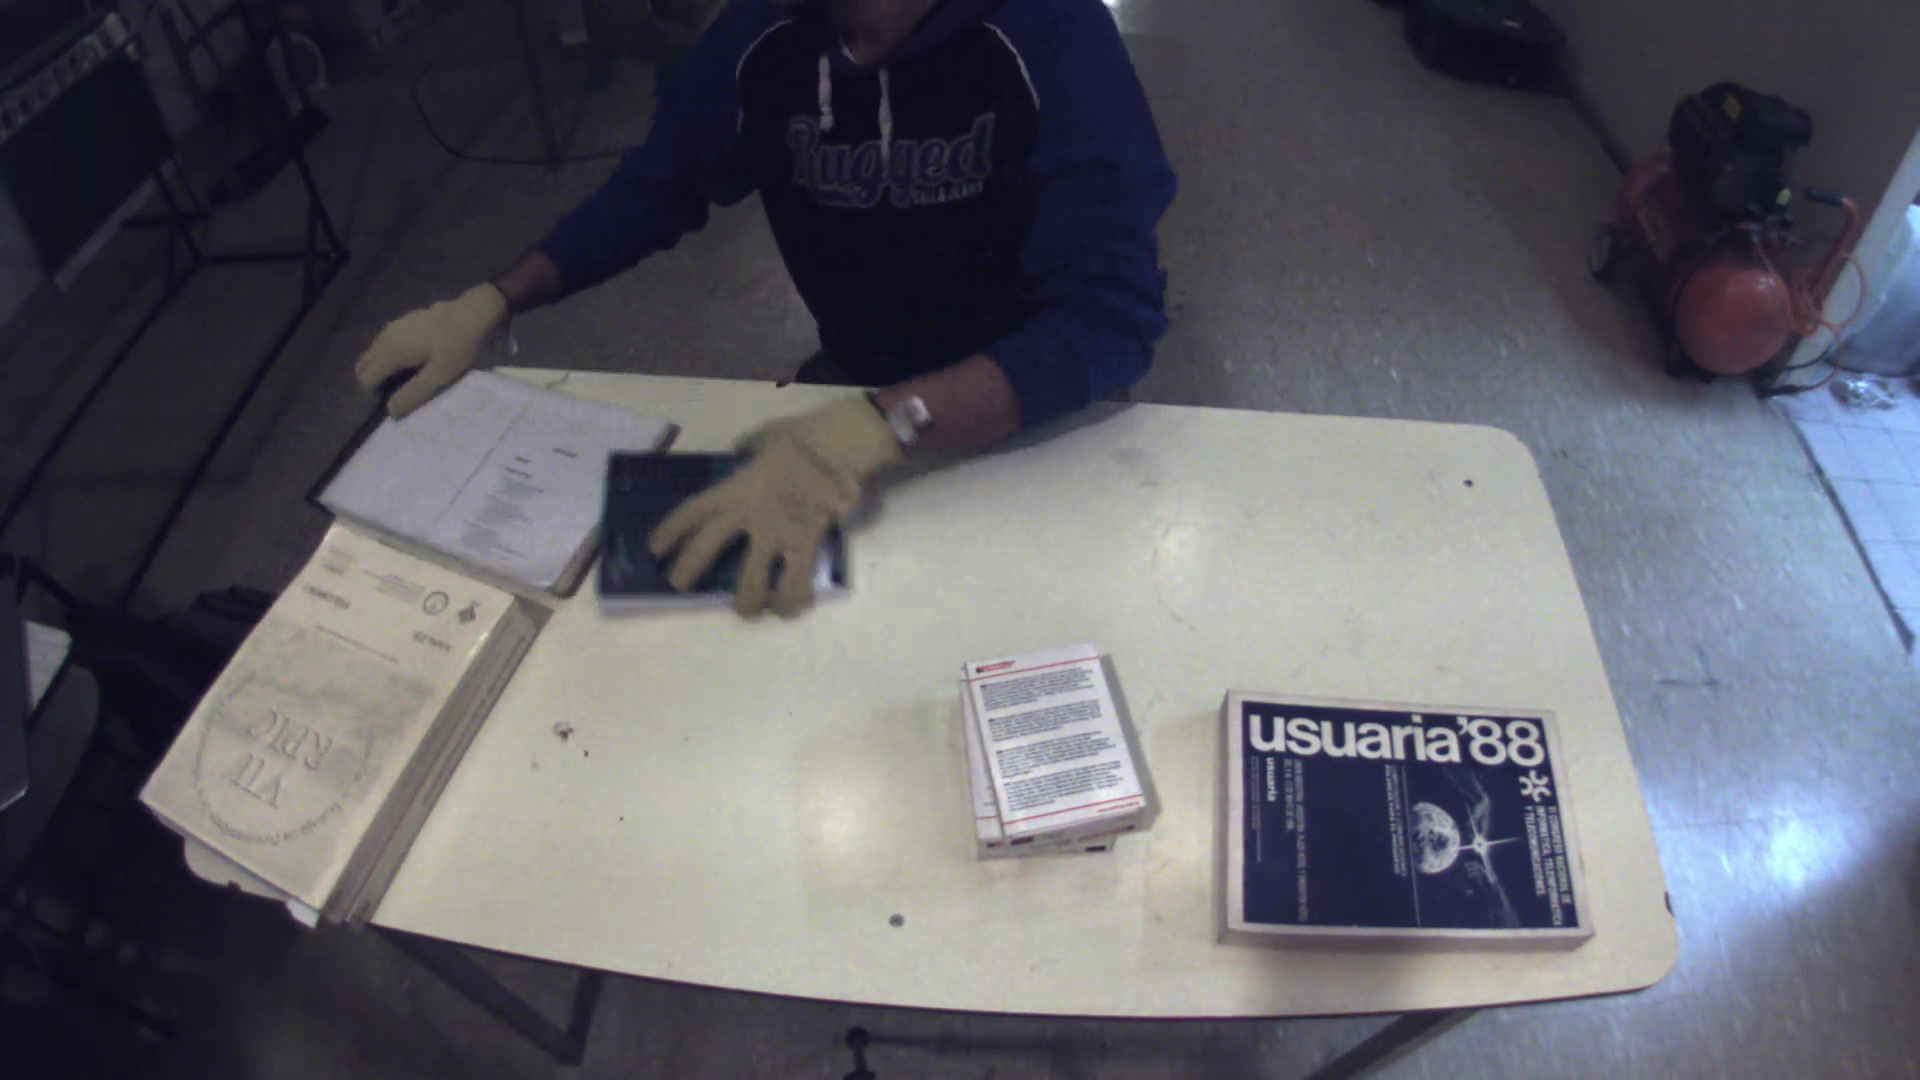hand: (345, 272, 510, 427)
